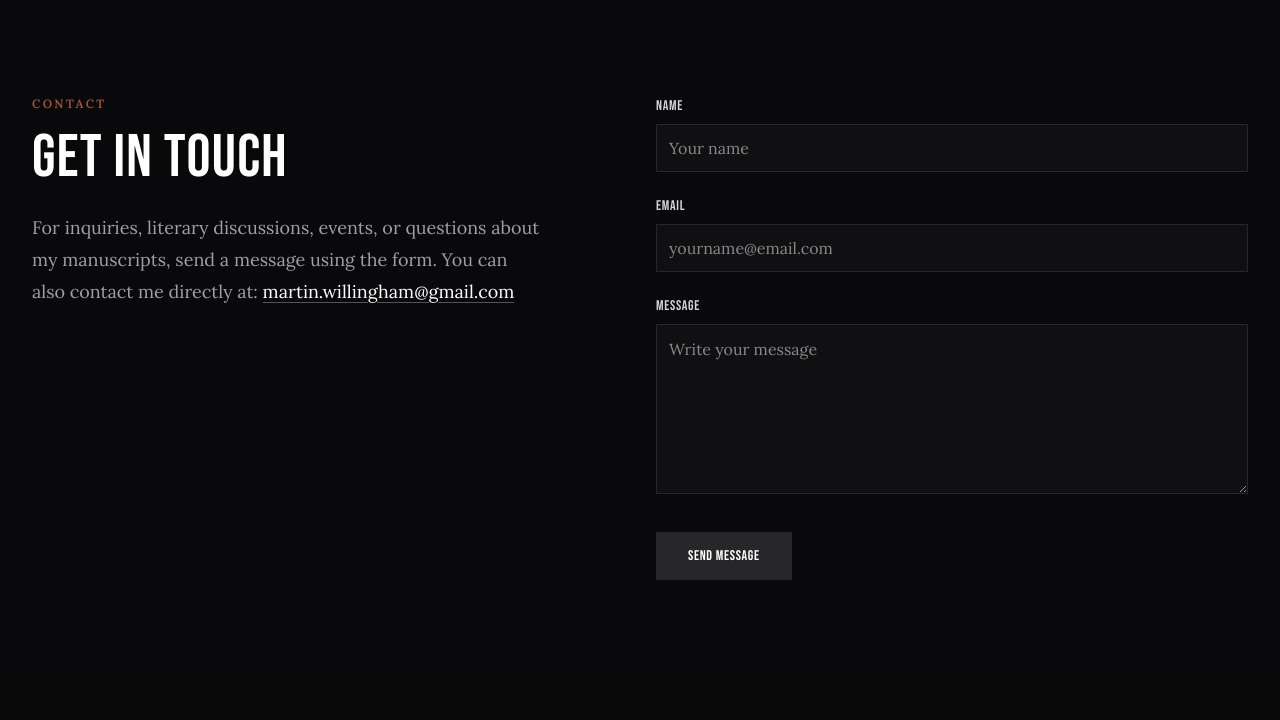
Contact › submits valid data and shows success message
This screenshot has width=1280, height=720.
Type "Martin Willingham" into the field labelled "NAME" at (952, 148), box [656,124,1248,172]
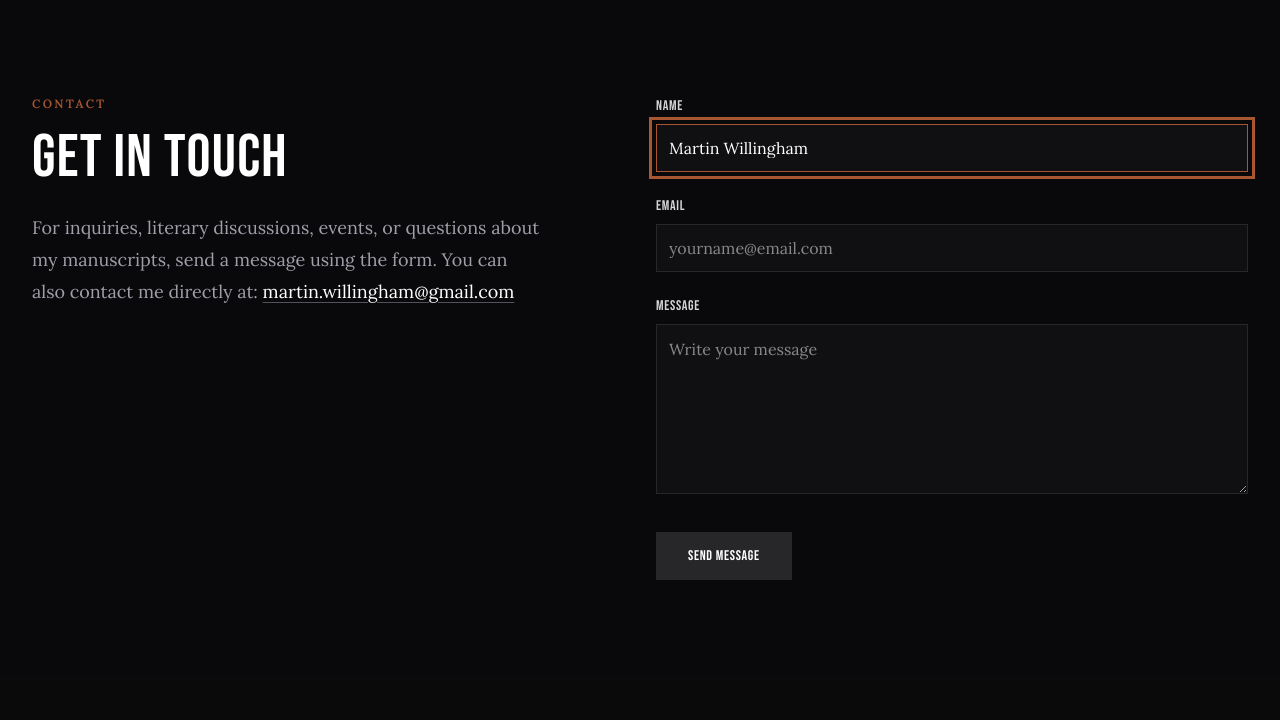
Type "martin@example.com" into the field labelled "EMAIL" at (952, 248), box [656,224,1248,272]
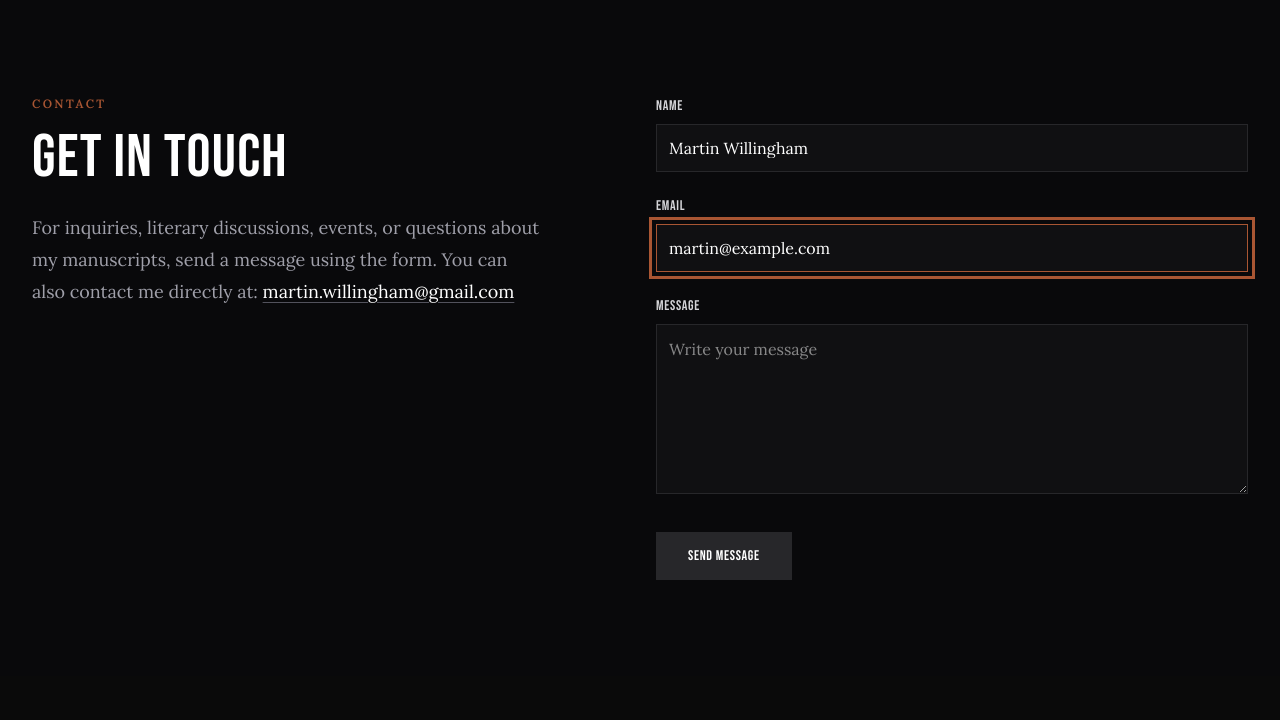
Type "I would like to discuss your manuscripts." into the text box labelled "MESSAGE" at (952, 409), box [656,324,1248,494]
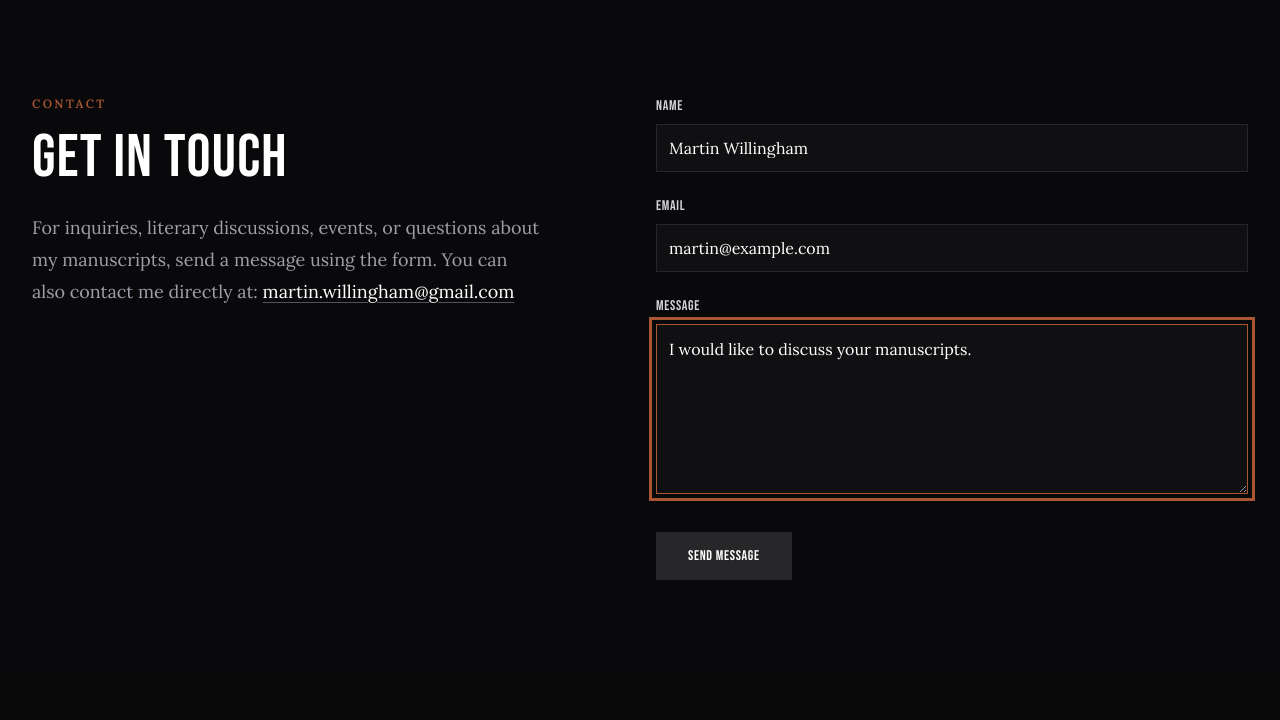
Click the button "Send message" at (724, 556), box [656,532,792,580]
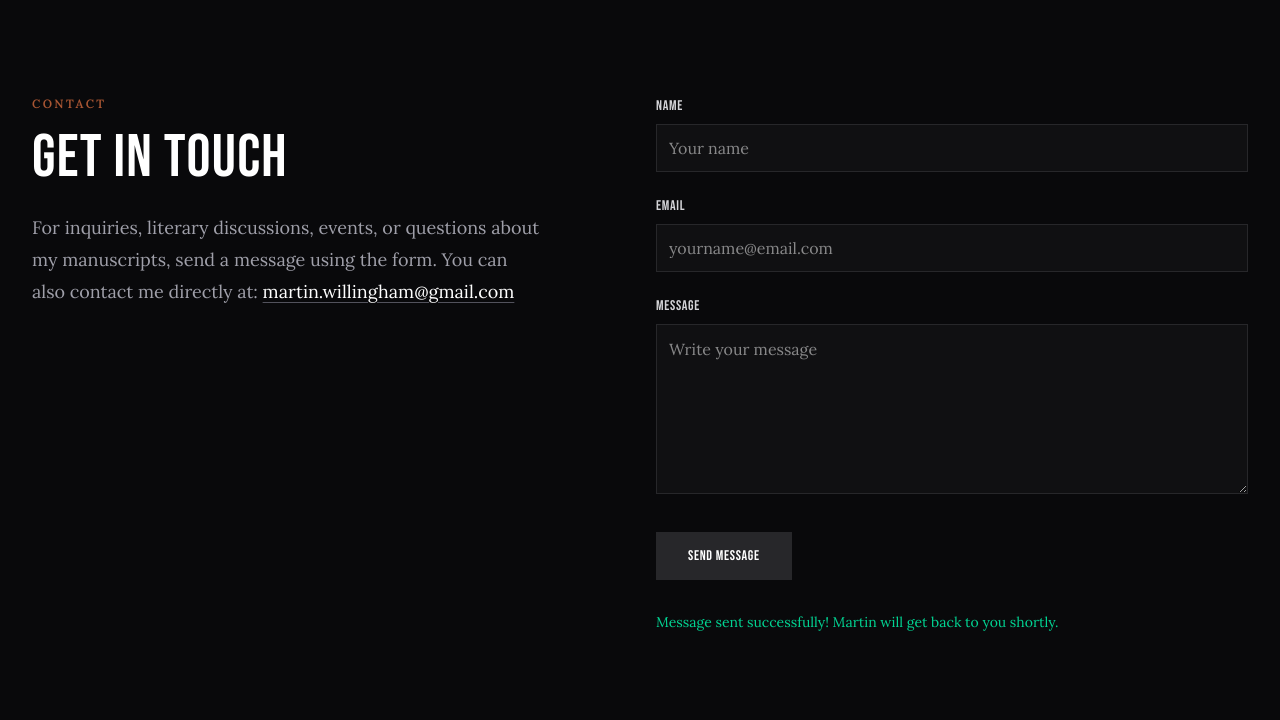
Check: the text "Message sent successfully" is shown, box [656,613,1059,631]
